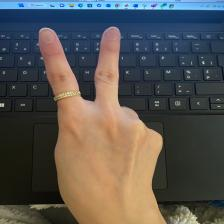two: (34, 24, 171, 199)
